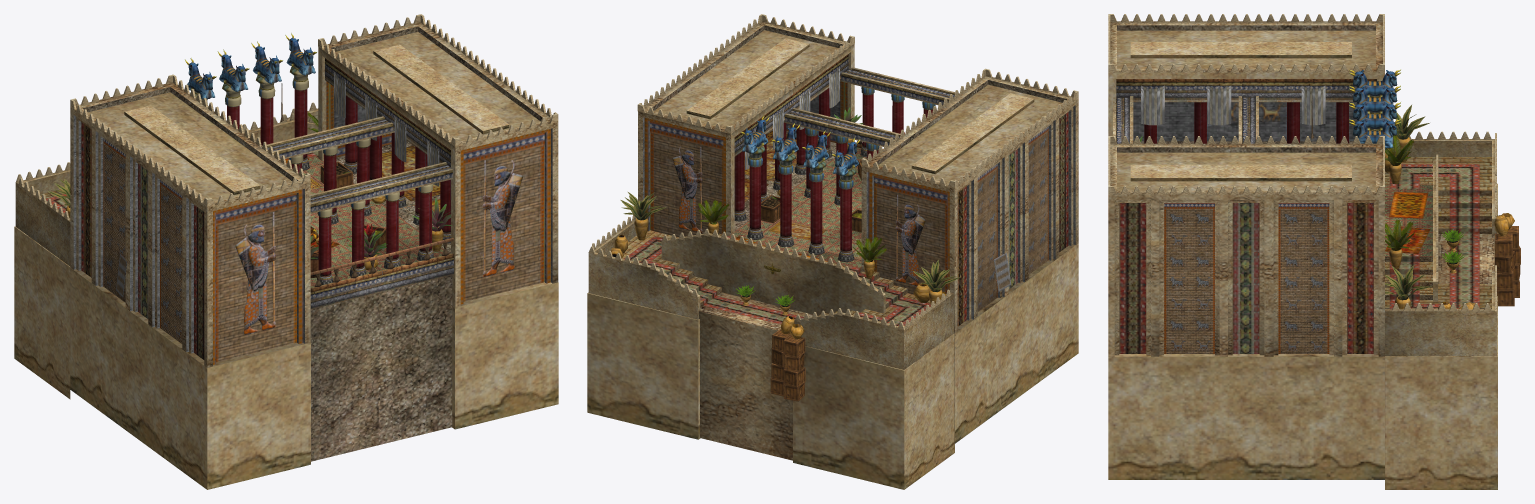
File: s_persians_tachara.glb
3 views of the same model, side by side, from view 1: azimuth 30°, elevation 25°; view 2: azimuth 150°, elevation 25°; view 3: azimuth 270°, elevation 25° (orthographic). The views are drawn at different scales.
Parts seen in each view (by area): view 1: s_persians_tachara_part0, s_persians_tachara_part2, s_persians_tachara_part3; view 2: s_persians_tachara_part0, s_persians_tachara_part2, s_persians_tachara_part4, s_persians_tachara_part5; view 3: s_persians_tachara_part0, s_persians_tachara_part4, s_persians_tachara_part5.
Boxes of the visible parts, left/top/right/bottom form: s_persians_tachara_part0: left=14, top=14, right=558, bottom=489; s_persians_tachara_part2: left=235, top=160, right=523, bottom=334; s_persians_tachara_part3: left=310, top=198, right=452, bottom=258; s_persians_tachara_part0: left=587, top=14, right=1078, bottom=489; s_persians_tachara_part2: left=672, top=146, right=925, bottom=286; s_persians_tachara_part4: left=620, top=192, right=959, bottom=292; s_persians_tachara_part5: left=698, top=200, right=886, bottom=262; s_persians_tachara_part0: left=1108, top=14, right=1520, bottom=489; s_persians_tachara_part4: left=1385, top=105, right=1432, bottom=300; s_persians_tachara_part5: left=1385, top=135, right=1414, bottom=250.
Size of the model in its own units: 6 by 4.7 by 5.72.
9 materials, 9 textured.
